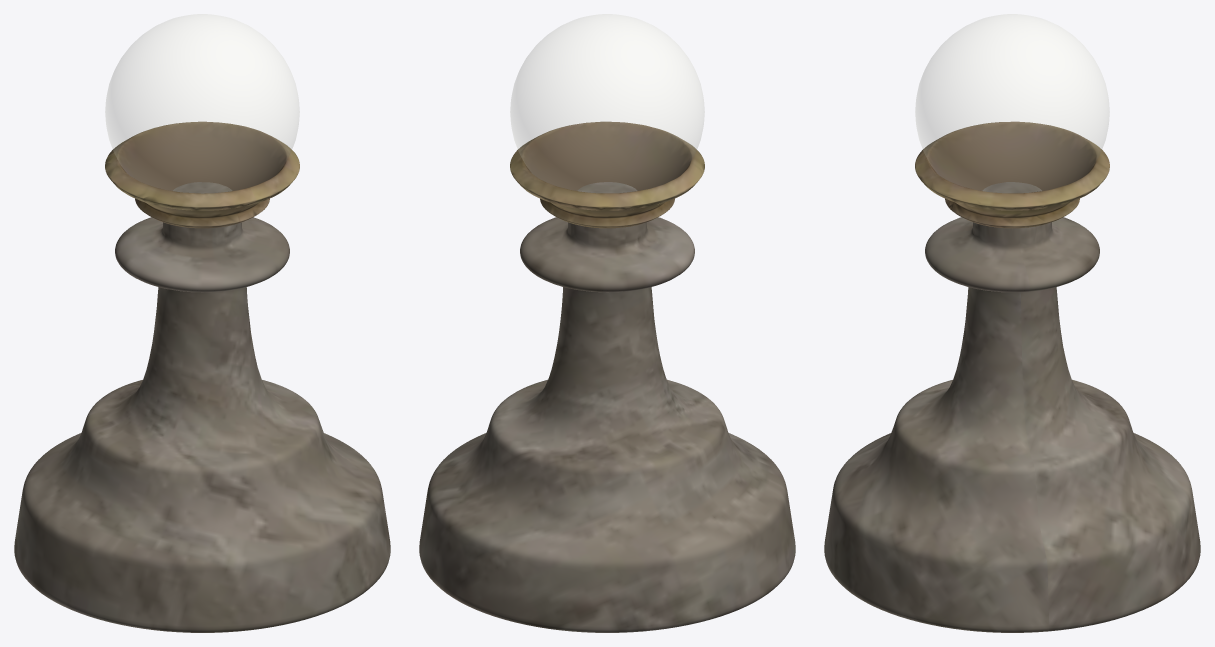
Rendered from pawn.m.glb.
The picture shows the model from 3 angles, left to right: view 1: azimuth 30°, elevation 25°; view 2: azimuth 150°, elevation 25°; view 3: azimuth 270°, elevation 25°; orthographic projection.
Visible parts, largest first — view 1: Pawn_Body_Shared, Pawn_Top_W1; view 2: Pawn_Body_Shared, Pawn_Top_W1; view 3: Pawn_Body_Shared, Pawn_Top_W1.
Boxes of the visible parts, bbox=[...] form: Pawn_Body_Shared: bbox=[14, 121, 390, 632]; Pawn_Top_W1: bbox=[105, 14, 299, 193]; Pawn_Body_Shared: bbox=[419, 121, 795, 632]; Pawn_Top_W1: bbox=[510, 14, 704, 192]; Pawn_Body_Shared: bbox=[824, 121, 1200, 632]; Pawn_Top_W1: bbox=[915, 14, 1109, 192].
Bounding box in the file's own units: 0.0317 × 0.05 × 0.0317.
2 materials, 1 textured.
